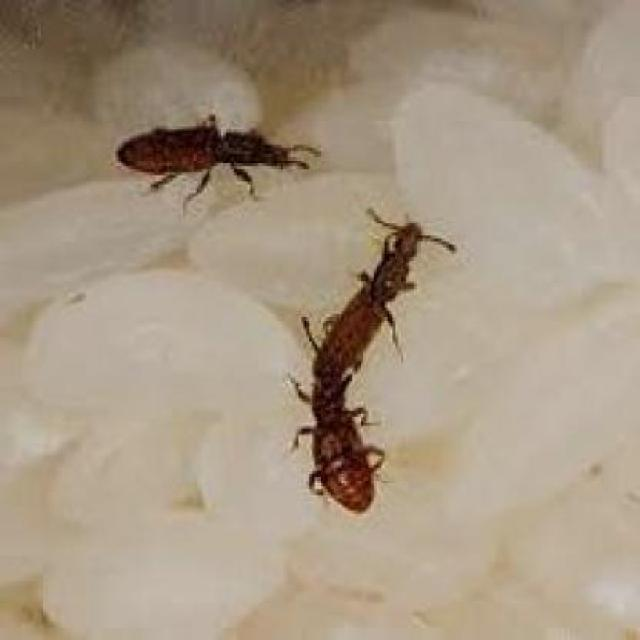rice-bug: (298, 221, 458, 519), (115, 120, 311, 192)
